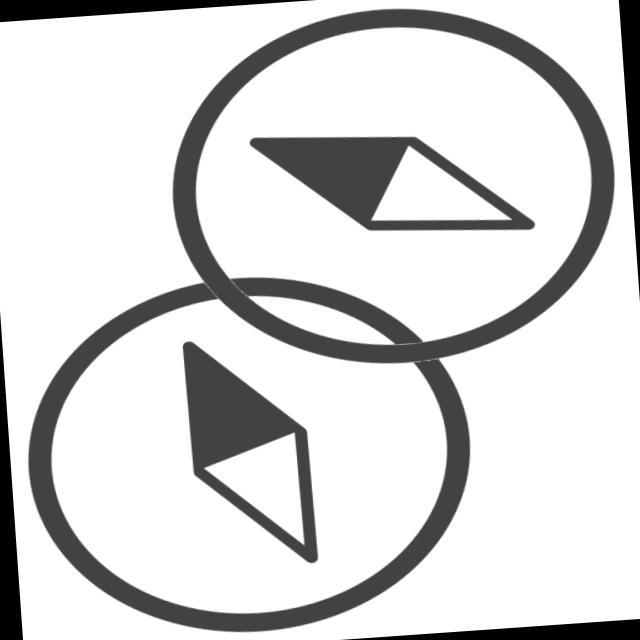compass: (146, 1, 640, 388), (6, 254, 489, 640)
